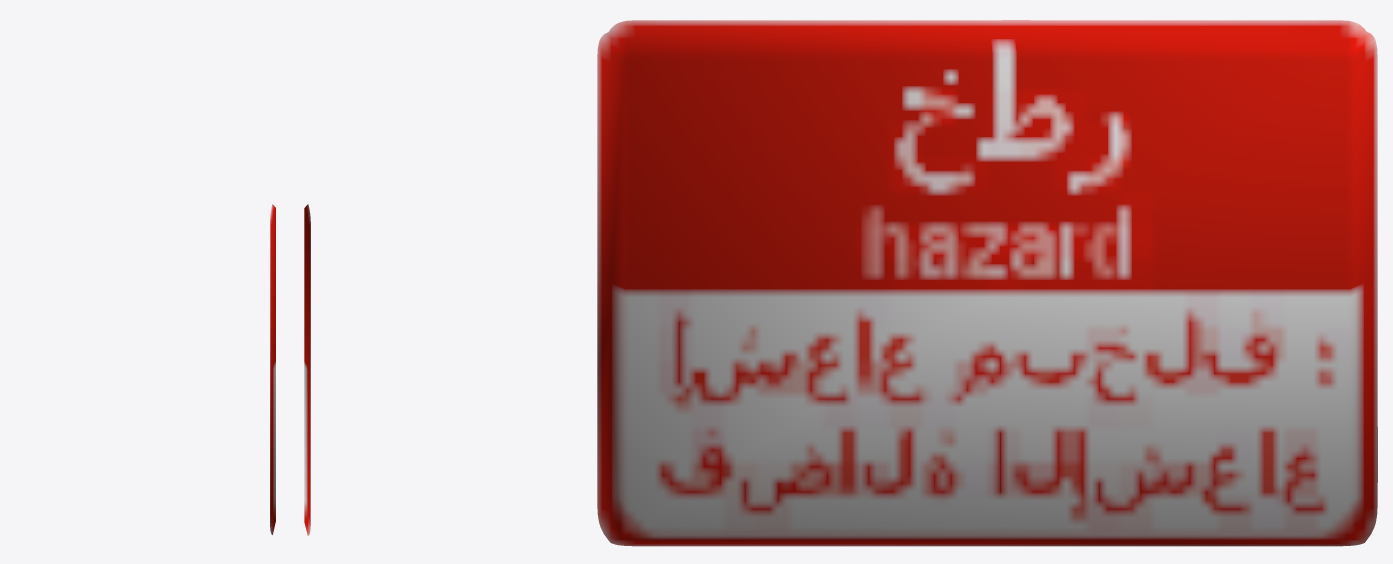
Rendered from M11B_Sign01.glb.
The picture shows the model from 3 angles, left to right: view 1: azimuth 30°, elevation 25°; view 2: azimuth 150°, elevation 25°; view 3: azimuth 270°, elevation 25°; orthographic projection. The views are drawn at different scales.
Parts seen in each view (by area): view 1: M11B_SIGN01; view 2: M11B_SIGN01; view 3: M11B_SIGN01.
Boxes of the visible parts, x1,y1,x2,y2 form: M11B_SIGN01: (270, 204, 275, 534); M11B_SIGN01: (304, 204, 310, 535); M11B_SIGN01: (597, 20, 1377, 546).
Bounding box in the file's own units: 0.019 × 0.39 × 0.517.
Materials: 1 (1 with a texture image).
